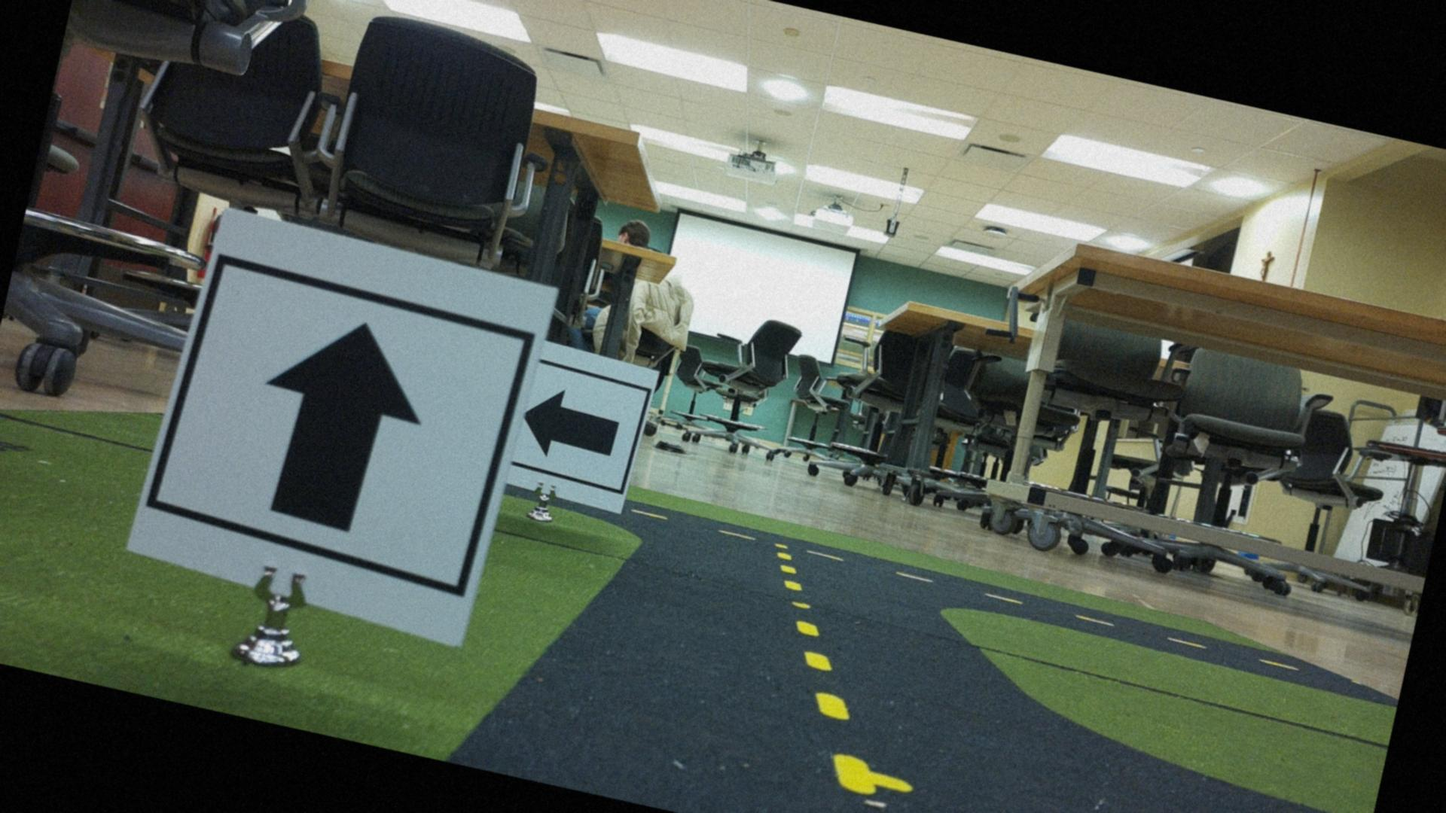gostraight: (151, 218, 539, 638)
turnleft: (505, 360, 647, 506)
yellowline: (733, 550, 918, 796)
